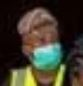with_facemask: (35, 46, 63, 67)
